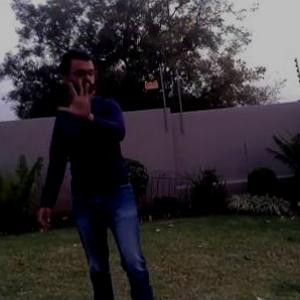follow_hand: (55, 74, 98, 121)
